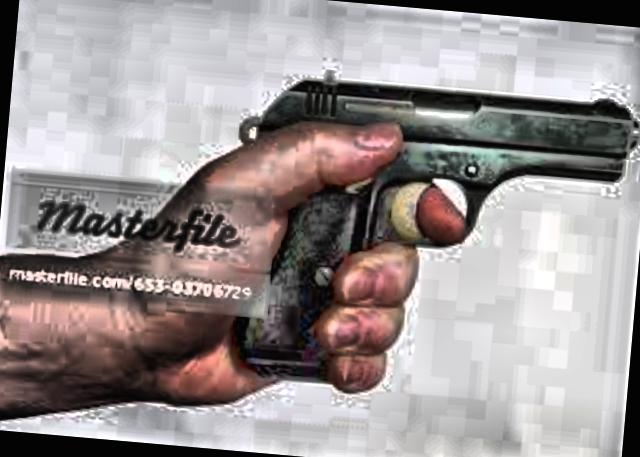pistol: (222, 56, 640, 411)
